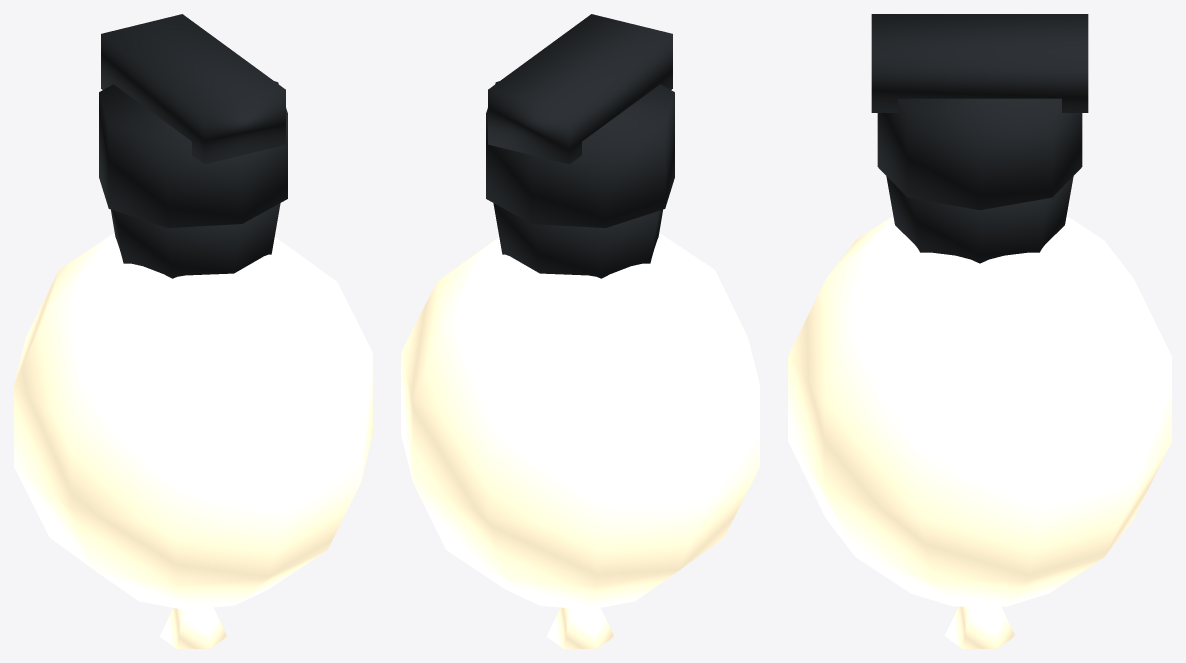
Rendered from string_bulb.glb.
The picture shows the model from 3 angles, left to right: view 1: azimuth 30°, elevation 25°; view 2: azimuth 150°, elevation 25°; view 3: azimuth 270°, elevation 25°; orthographic projection. The views are drawn at different scales.
Parts seen in each view (by area): view 1: BulbGlobe, SocketClip, SocketBody, SocketNeck, BulbTip; view 2: BulbGlobe, SocketClip, SocketBody, SocketNeck, BulbTip; view 3: BulbGlobe, SocketBody, SocketClip, SocketNeck, BulbTip.
Boxes of the visible parts, <box> form: BulbGlobe: <box>14,233,372,609</box>; SocketClip: <box>101,14,285,164</box>; SocketBody: <box>99,81,287,227</box>; SocketNeck: <box>111,203,280,278</box>; BulbTip: <box>160,607,226,648</box>; BulbGlobe: <box>401,233,759,609</box>; SocketClip: <box>488,14,672,164</box>; SocketBody: <box>486,81,674,227</box>; SocketNeck: <box>493,203,662,278</box>; BulbTip: <box>547,607,613,648</box>; BulbGlobe: <box>788,216,1171,606</box>; SocketBody: <box>877,98,1082,209</box>; SocketClip: <box>871,14,1088,112</box>; SocketNeck: <box>886,176,1073,263</box>; BulbTip: <box>945,606,1014,648</box>.
Size of the model in its own units: 0.0461 by 0.0838 by 0.0485.
